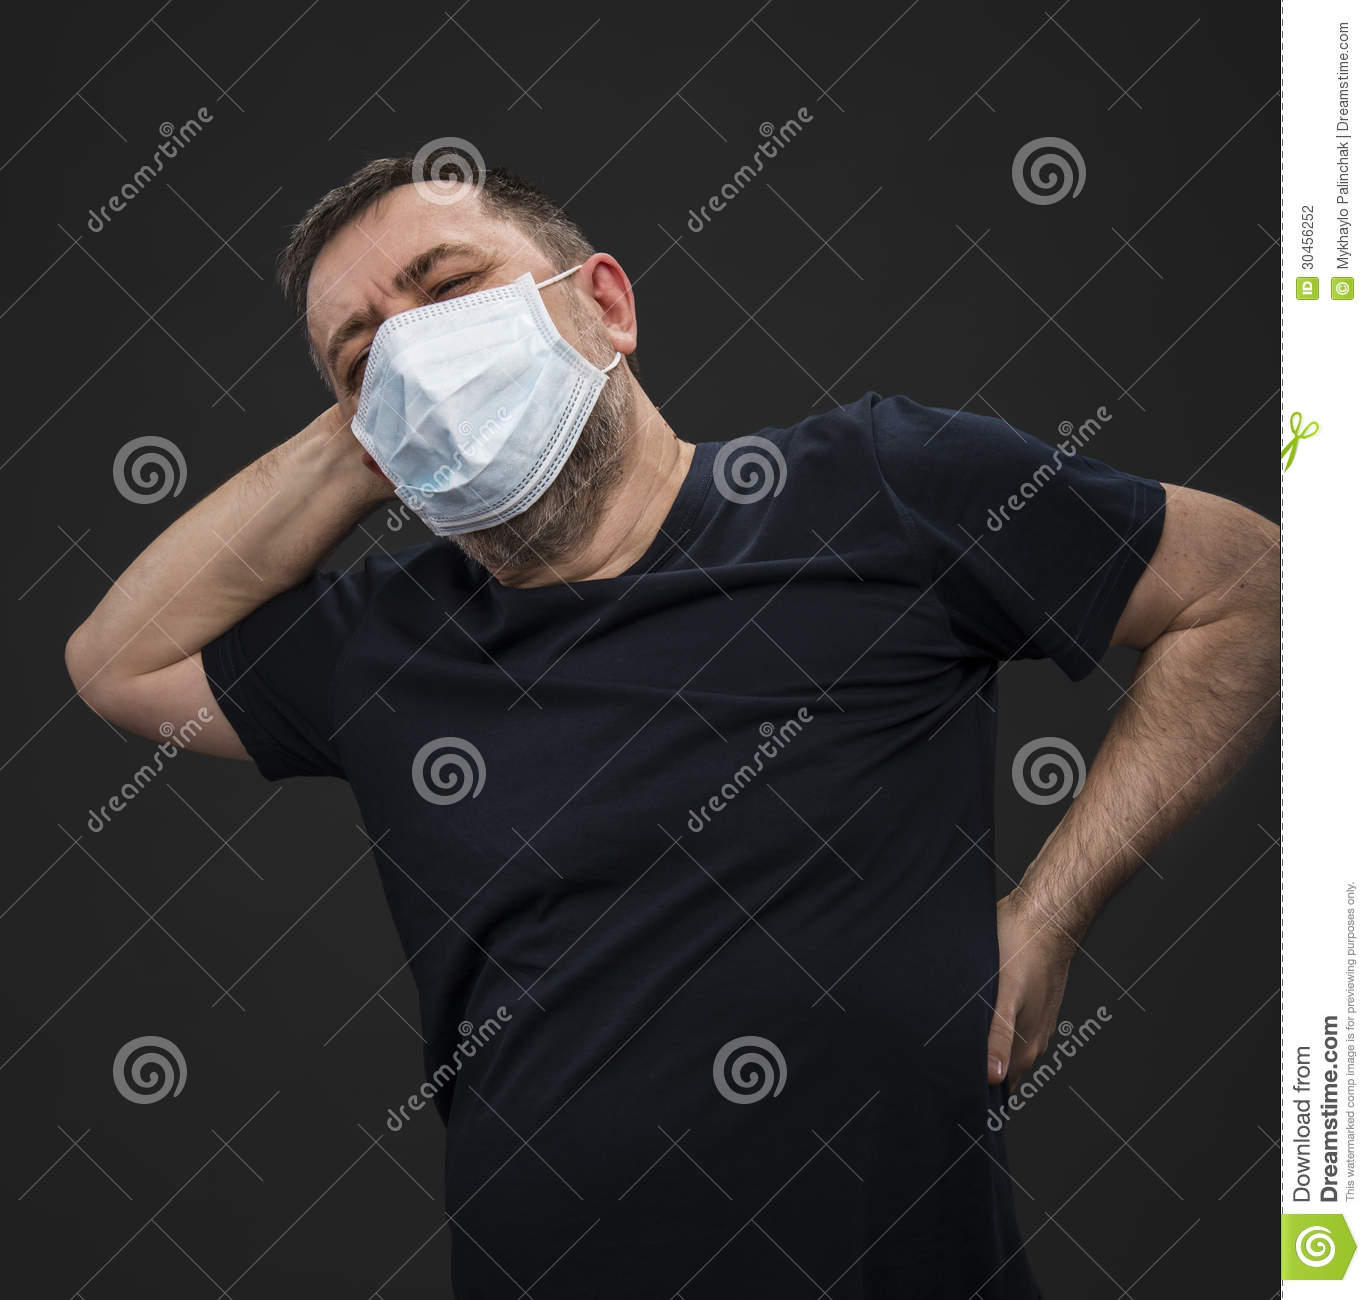mask: (350, 287, 607, 542)
